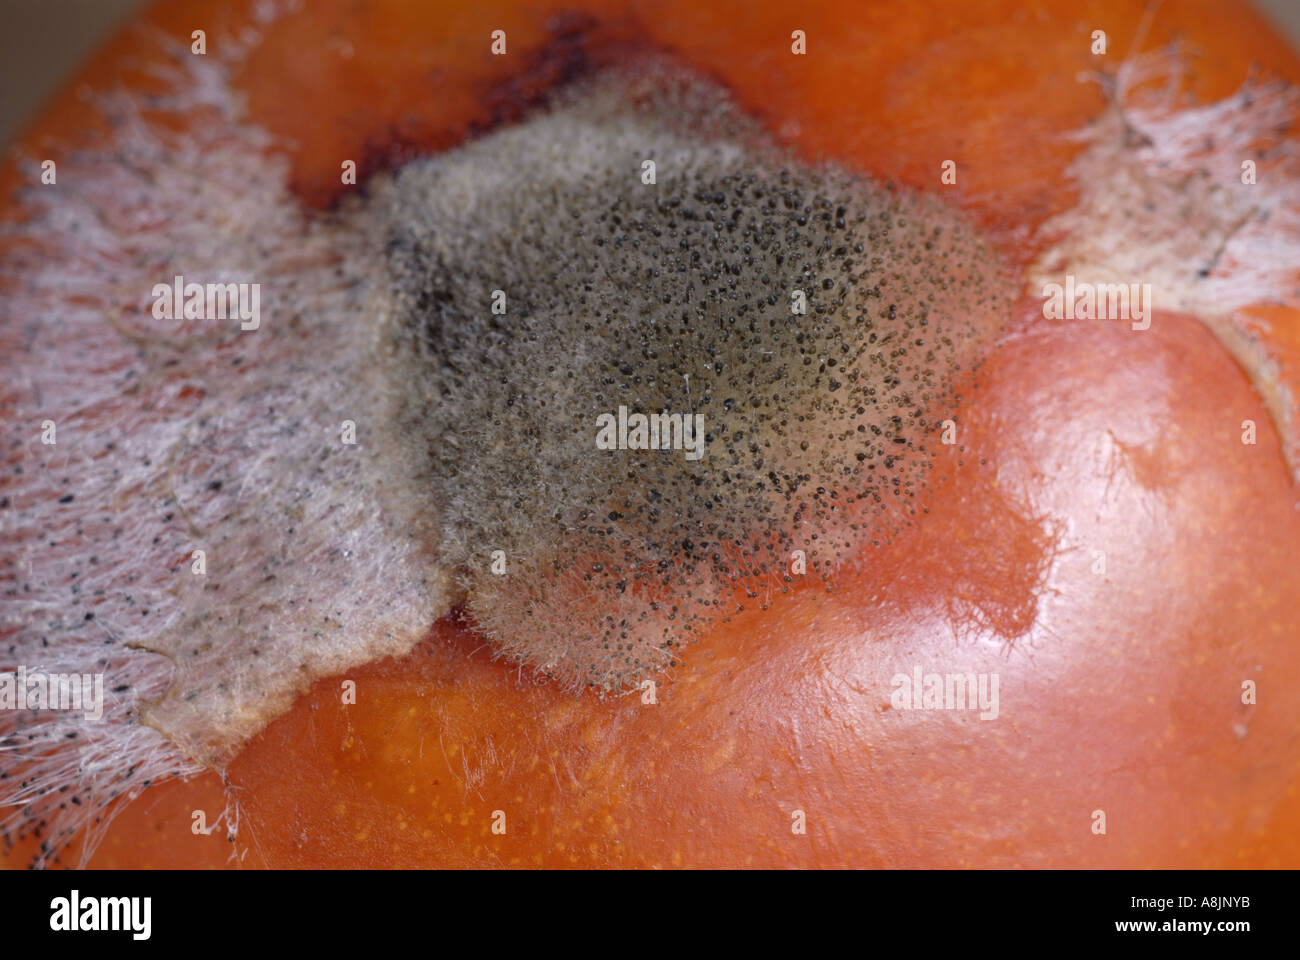Mucor: (10, 362, 412, 681), (455, 202, 864, 445), (1083, 97, 1268, 296), (537, 487, 803, 574), (1, 730, 215, 785)
